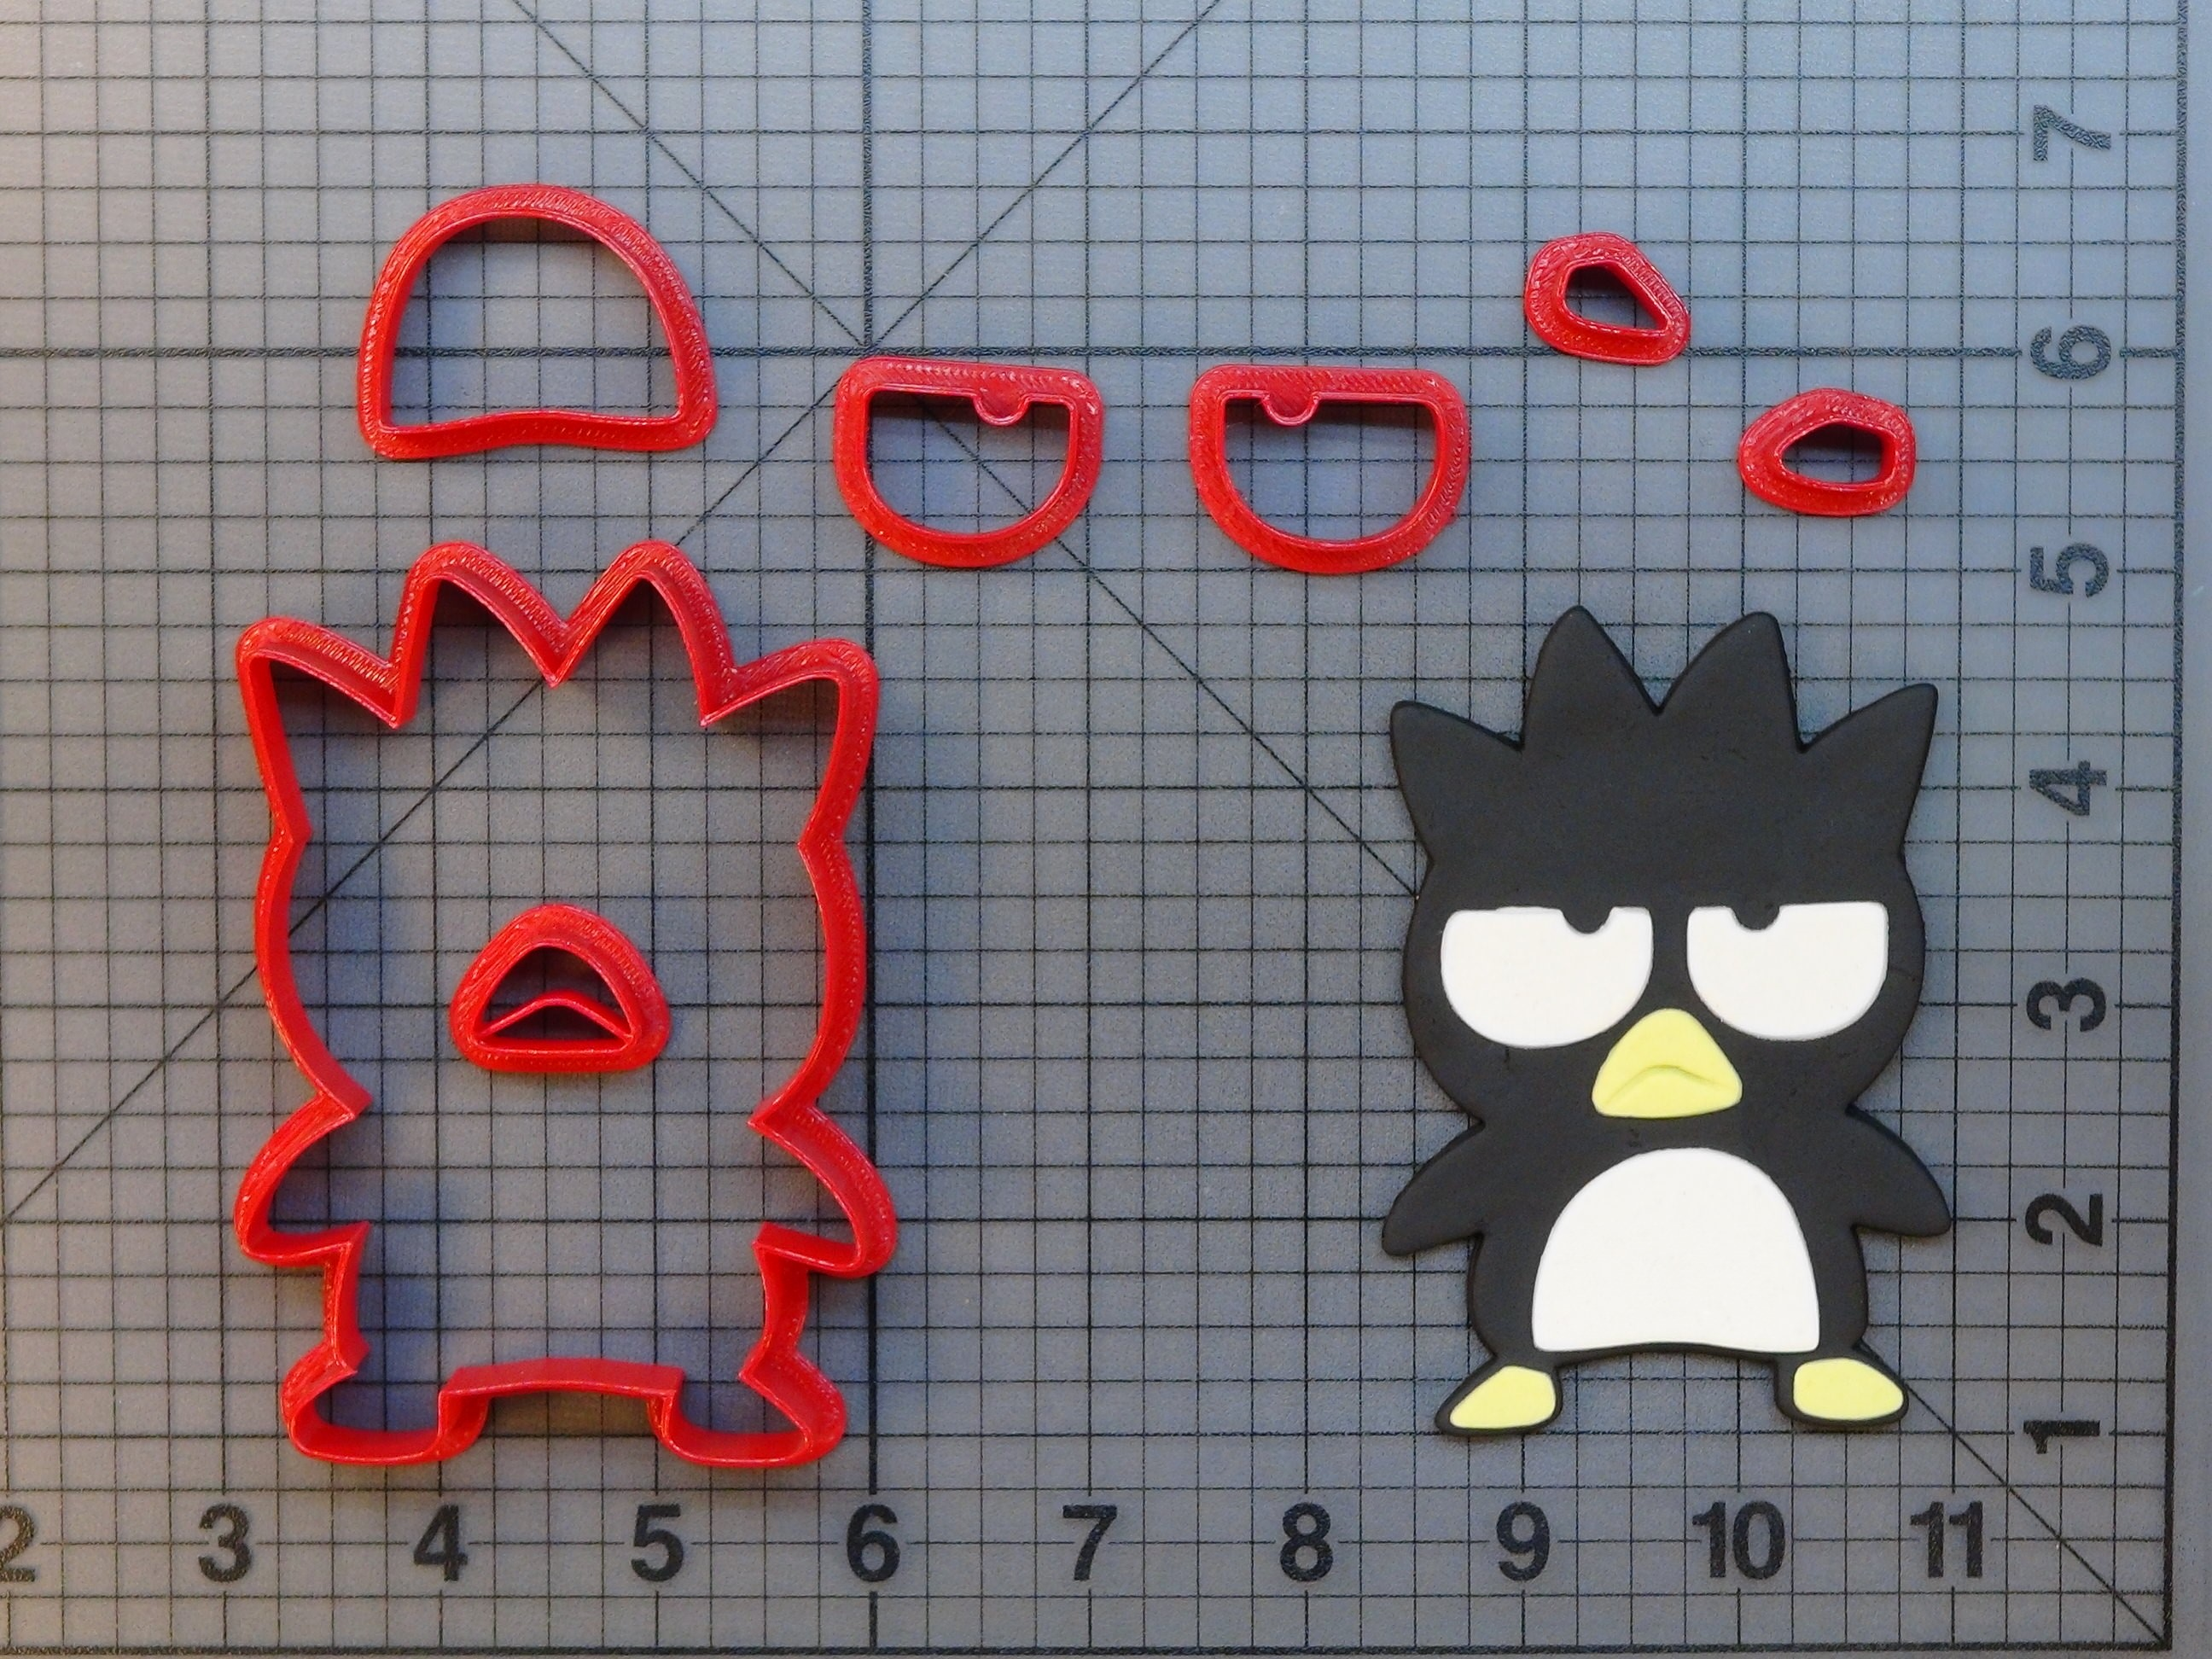batsumaru: (1386, 610, 1958, 1431)
